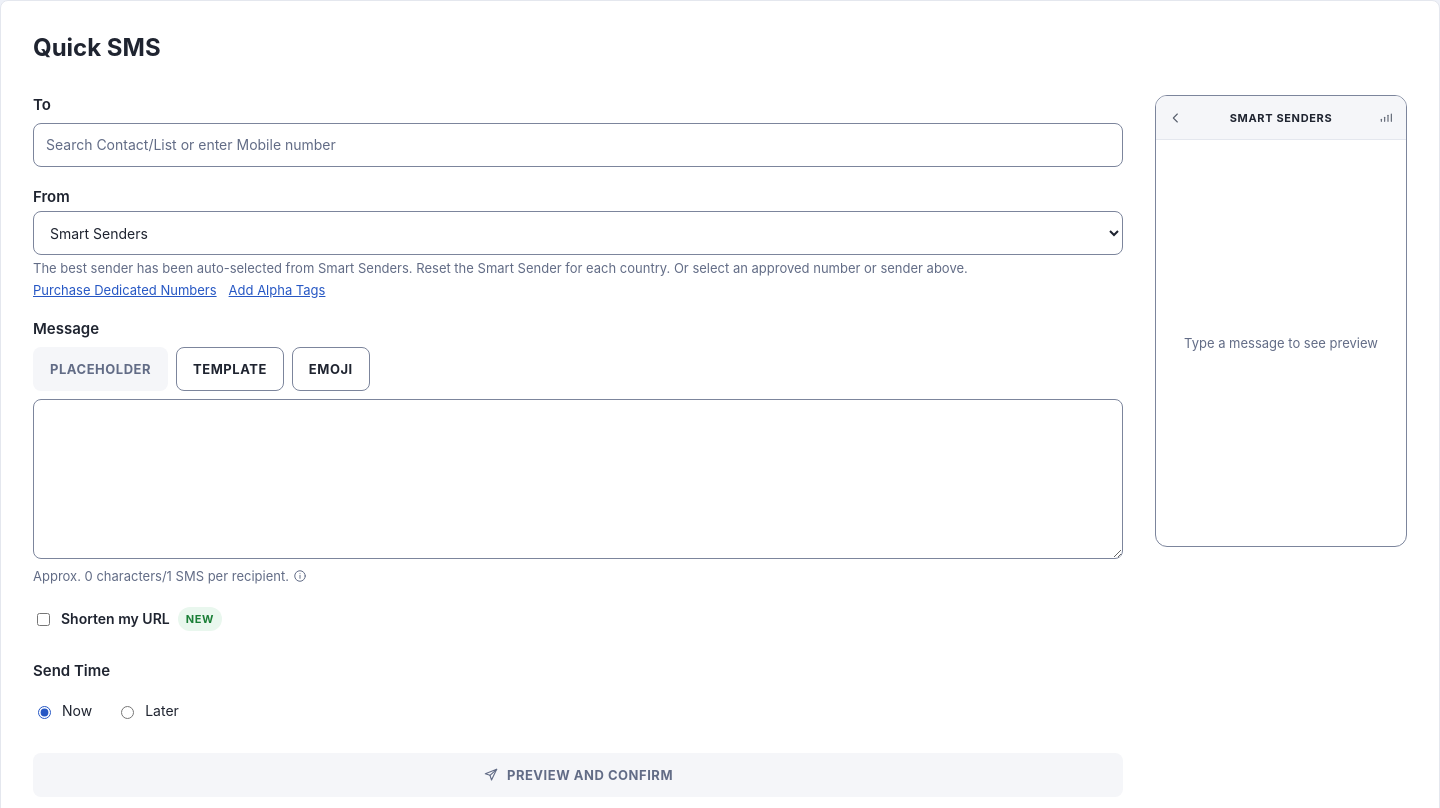
QuickSendScreen › offers a matching list but never the opt-out list
This screenshot has width=1440, height=808.
Type "list" into the field labelled "To". click: (578, 145)
box: [33,123,1123,167]
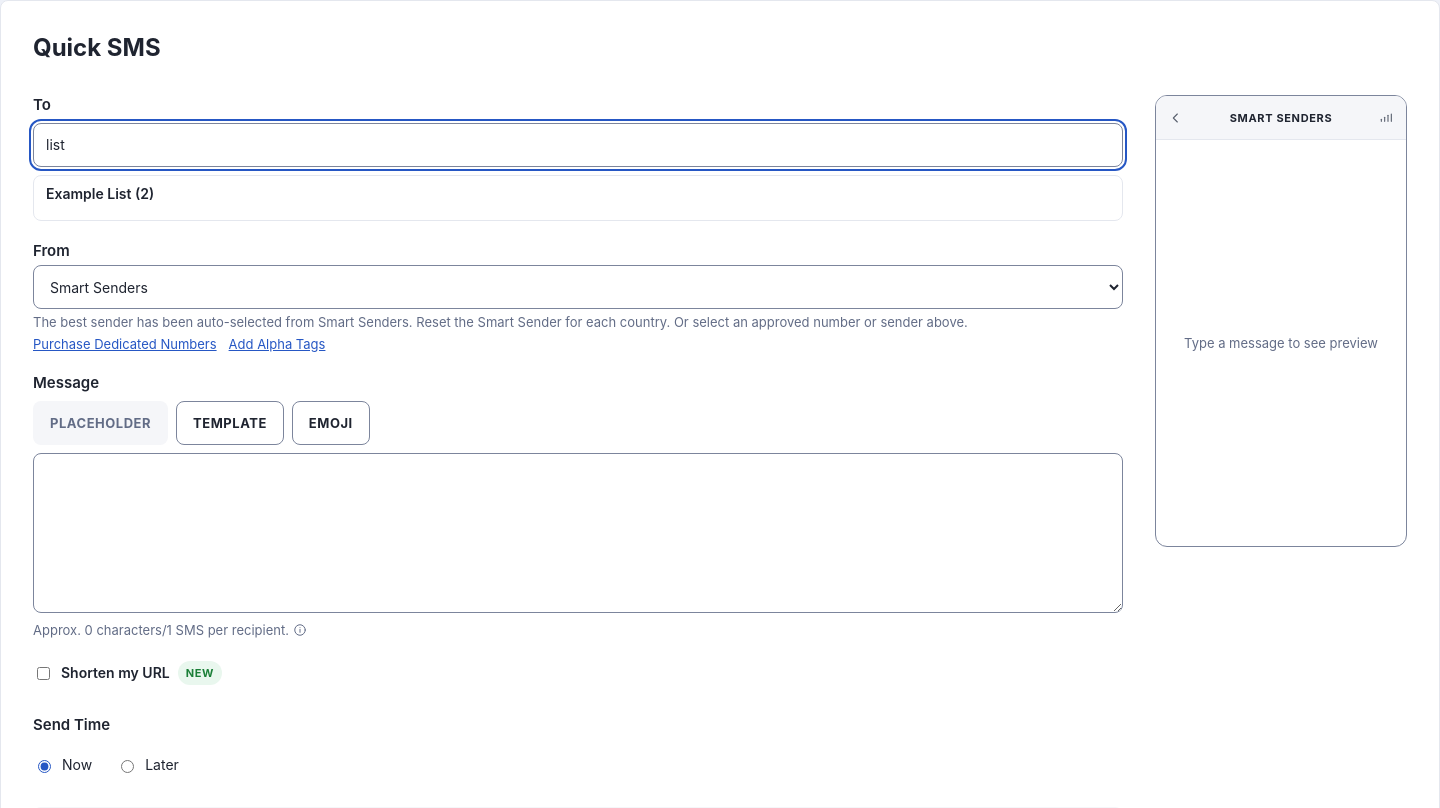
Now the button "Example List (2)" is shown, box [34,176,1122,220]
